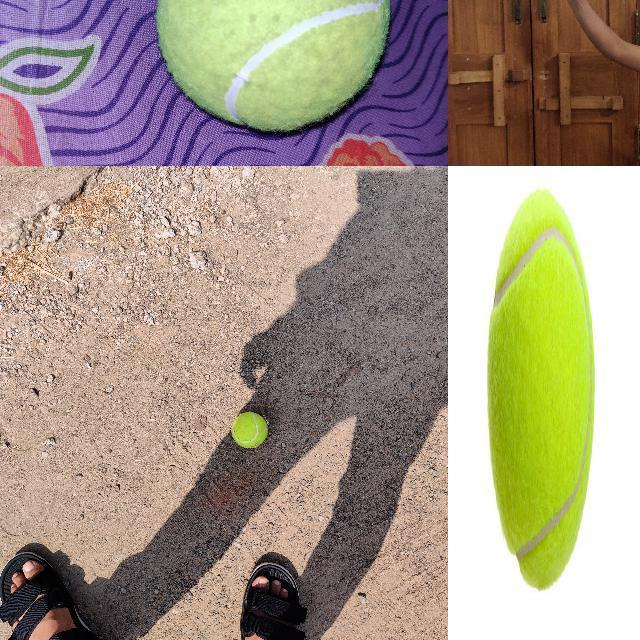tennis-ball: (487, 187, 595, 590), (154, 0, 393, 137), (231, 412, 267, 448)
